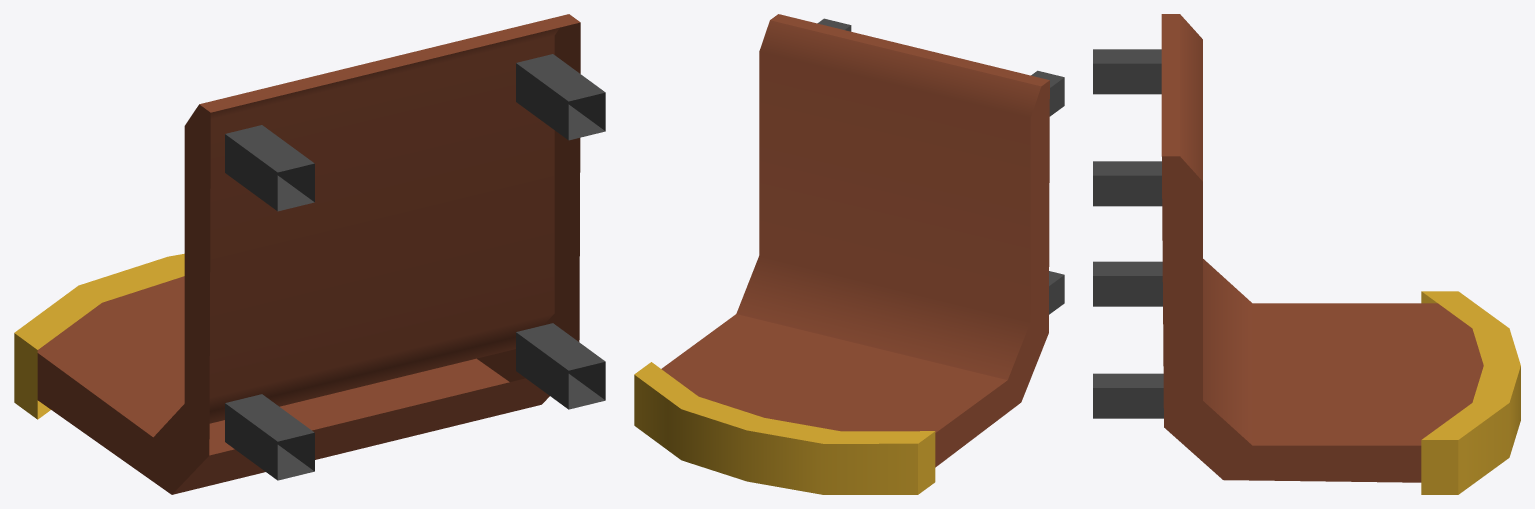
File: Chair 02.FBX
The picture shows the model from 3 angles, left to right: view 1: azimuth 30°, elevation 25°; view 2: azimuth 150°, elevation 25°; view 3: azimuth 270°, elevation 25°; orthographic projection. The views are drawn at different scales.
Parts seen in each view (by area): view 1: Chair 02; view 2: Chair 02; view 3: Chair 02.
Boxes of the visible parts, <box> form: Chair 02: <box>14,14,605,494</box>; Chair 02: <box>634,14,1064,494</box>; Chair 02: <box>1093,14,1520,494</box>.
Size of the model in its own units: 69.88 by 73.41 by 84.88.
Materials: 1 (1 with a texture image).
